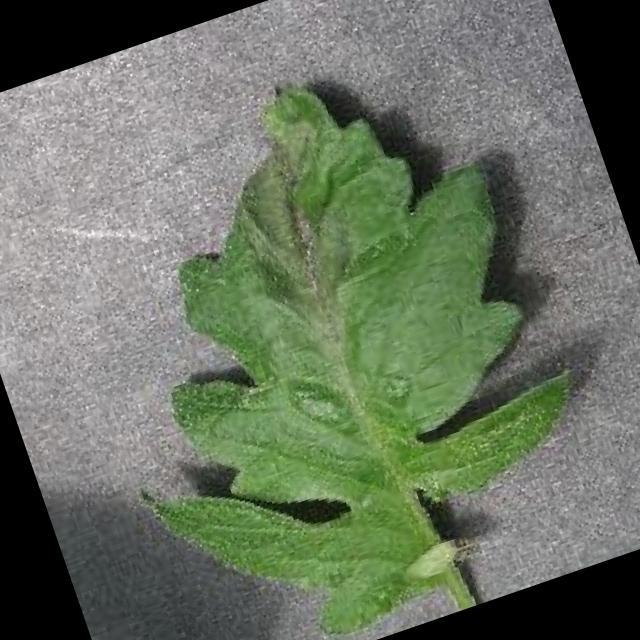Tomato late blight leaf: (28, 18, 634, 640)
